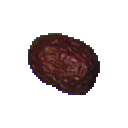gd: (14, 19, 128, 112)
